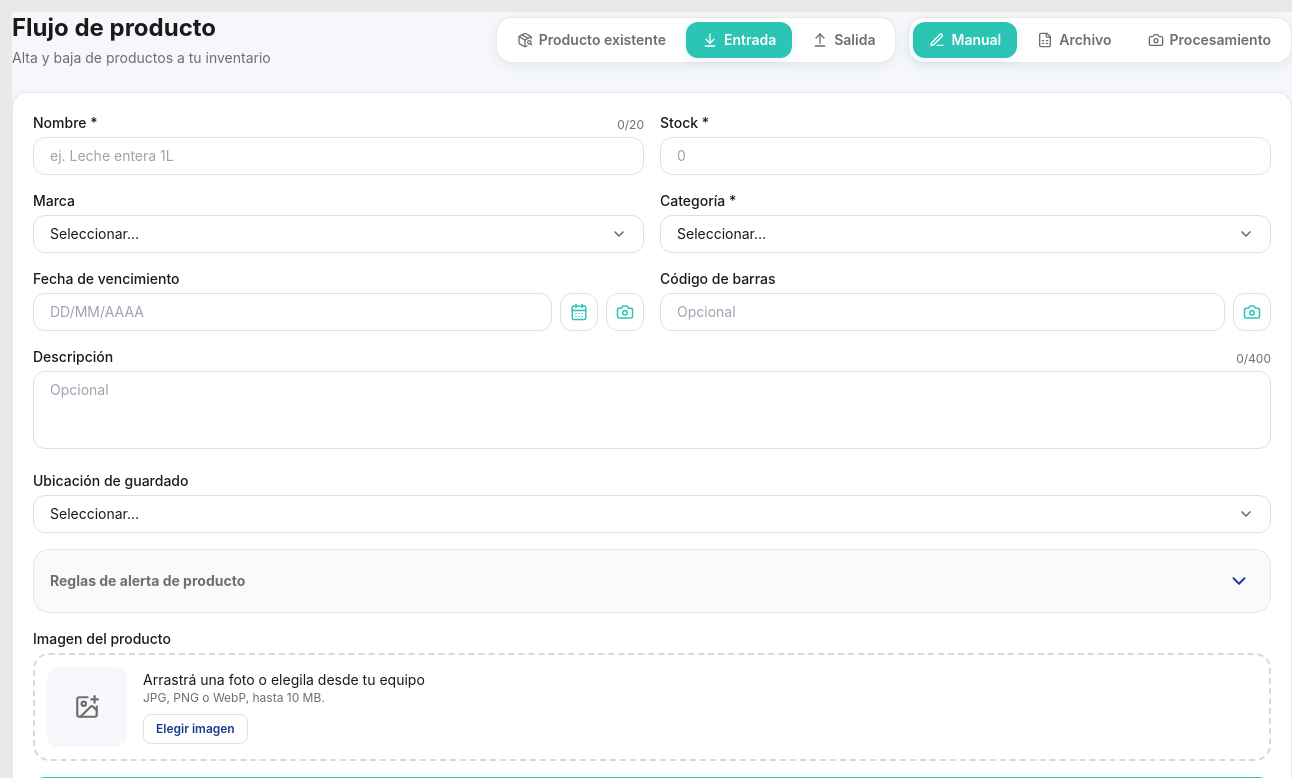
Test: Cargar · manual (entrada) › si el código no cierra el dígito verificador, muestra el error tal como lo daría el alta
The image size is (1292, 778).
Step 1. Type "7791234567890" into the field named "Código de barras" → (942, 312), box [660, 293, 1225, 331]
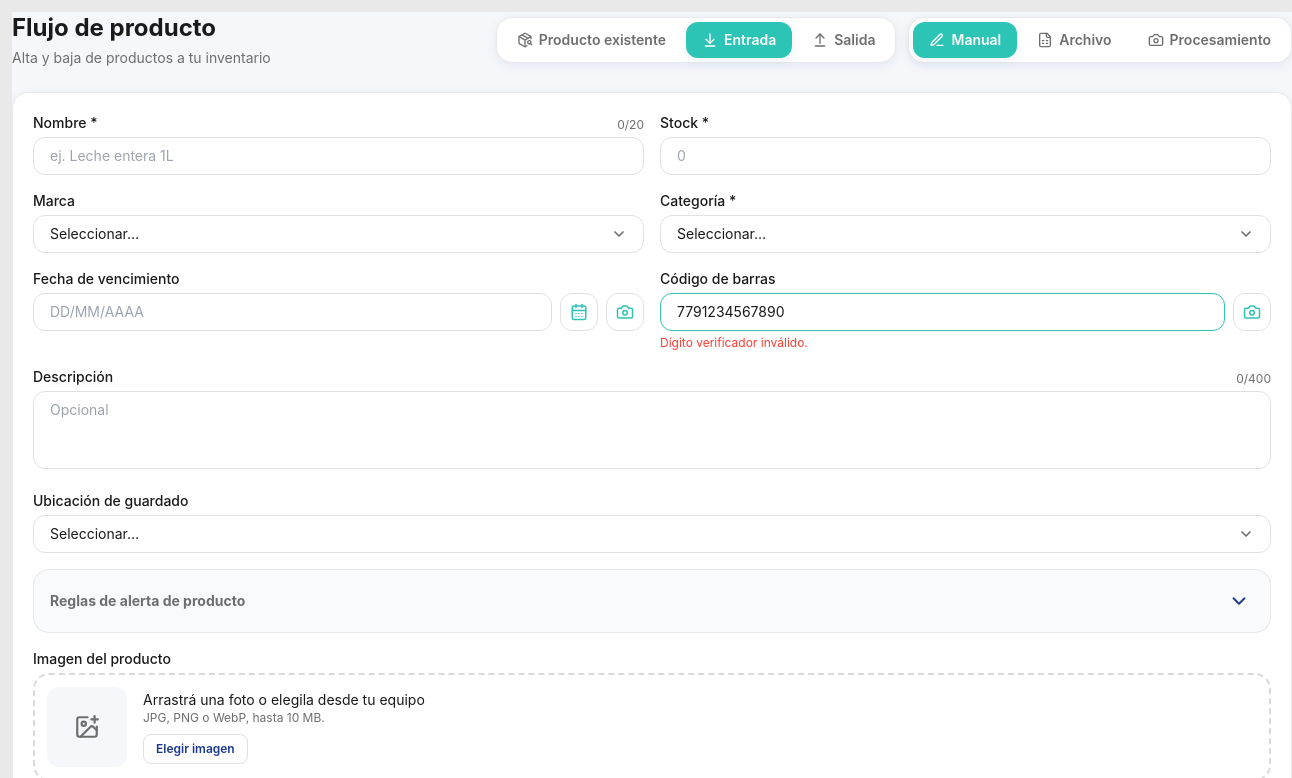
Expected: the text "Dígito verificador inválido." is shown, [660, 335, 808, 350]
